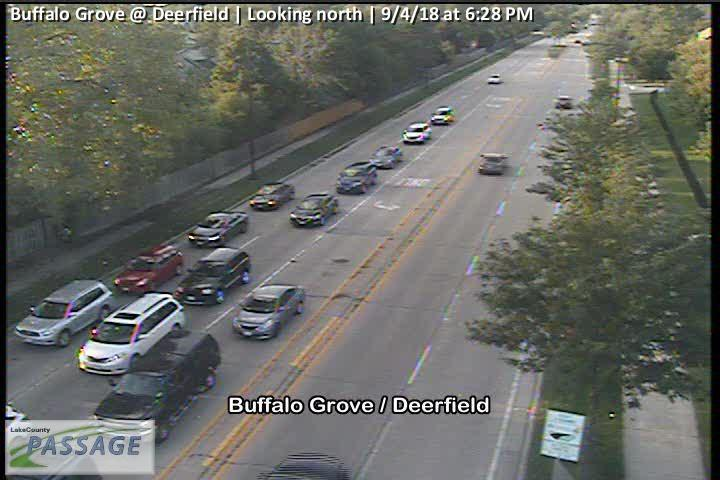SUV: (91, 330, 220, 446), (76, 290, 185, 376), (13, 279, 115, 359)
Sedan: (173, 247, 253, 307), (231, 283, 305, 343), (115, 244, 183, 294), (186, 210, 251, 244), (287, 193, 340, 229), (335, 161, 376, 196), (253, 182, 294, 210), (373, 146, 402, 170), (479, 151, 507, 175), (402, 123, 432, 142), (431, 104, 455, 123), (553, 95, 571, 108), (488, 74, 501, 83)
